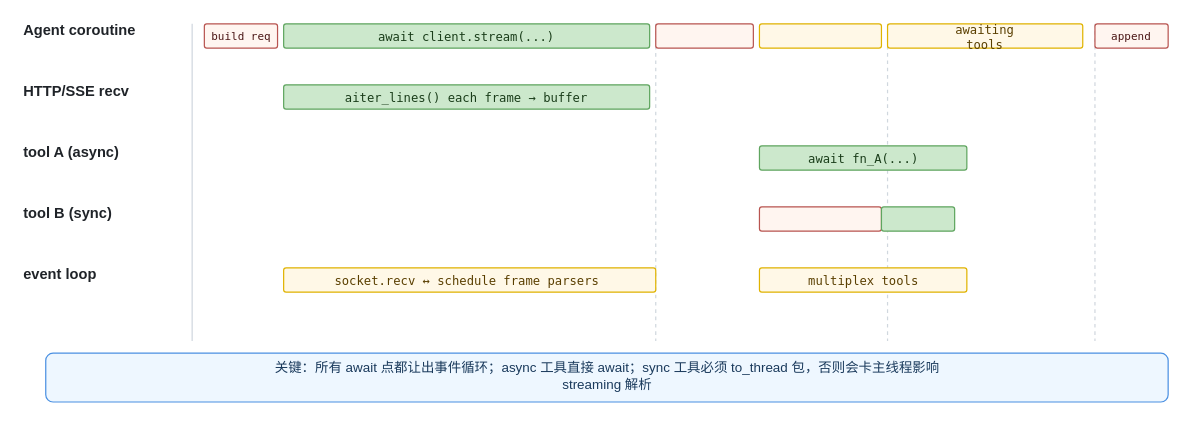
Some shapes in this 1190 by 423 pixel diagram are drawn without their labels. Each missing label, with the box of its shape:
block: (880, 206, 955, 231)
gather(): (758, 23, 881, 48)
parse tc: (655, 23, 753, 48)
to_thread: (758, 206, 881, 231)
